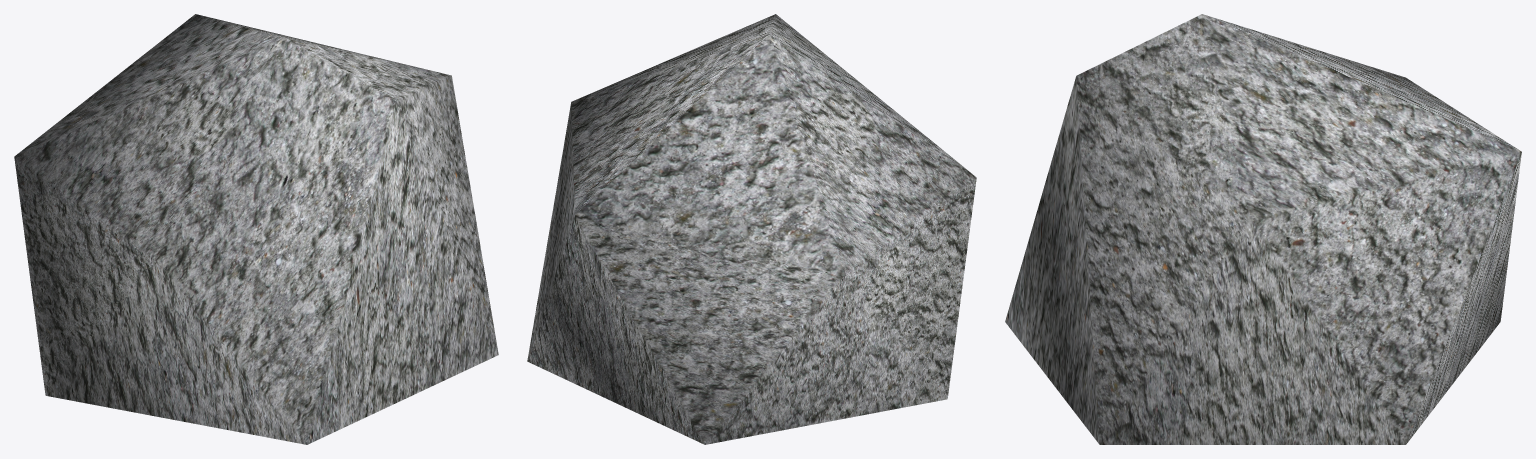
File: roca_detalle.fbx
3 renders of one model, left to right at view 1: azimuth 30°, elevation 25°; view 2: azimuth 150°, elevation 25°; view 3: azimuth 270°, elevation 25°, orthographic. The views are drawn at different scales.
Visible parts, largest first — view 1: Icosphere; view 2: Icosphere; view 3: Icosphere.
Part boxes in pixels (box(x1,y1,x2,y2)): Icosphere: box(14, 14, 498, 444); Icosphere: box(527, 14, 976, 444); Icosphere: box(1005, 14, 1521, 444).
Size of the model in its own units: 25.91 by 19.64 by 26.71.
